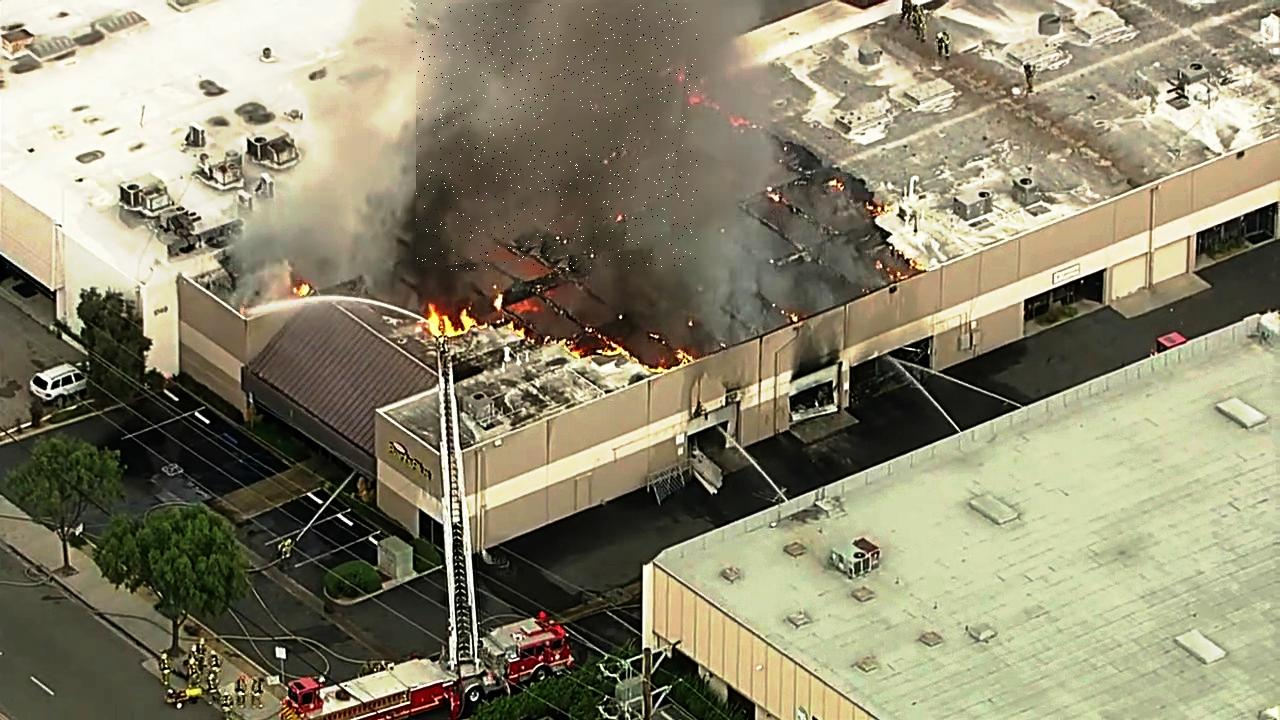smoke: (417, 3, 698, 270)
